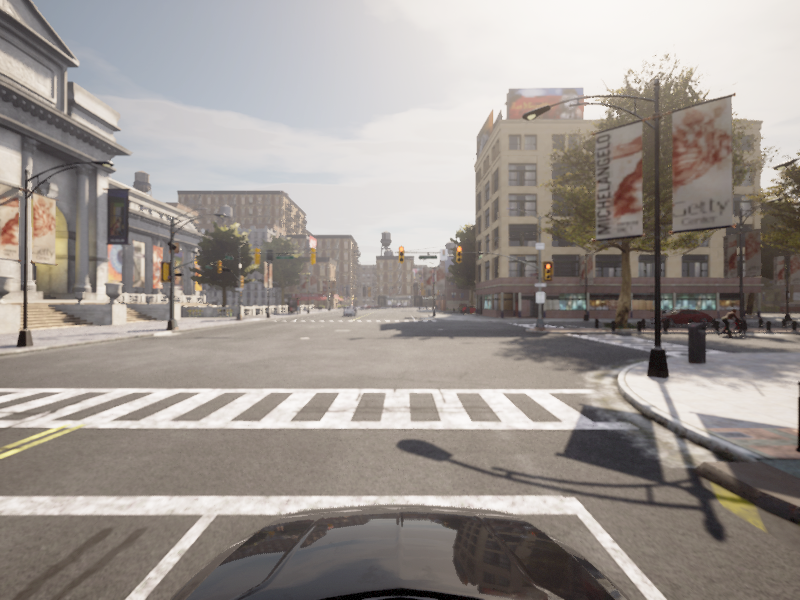vehicle: (647, 308, 716, 326), (712, 309, 750, 338)
